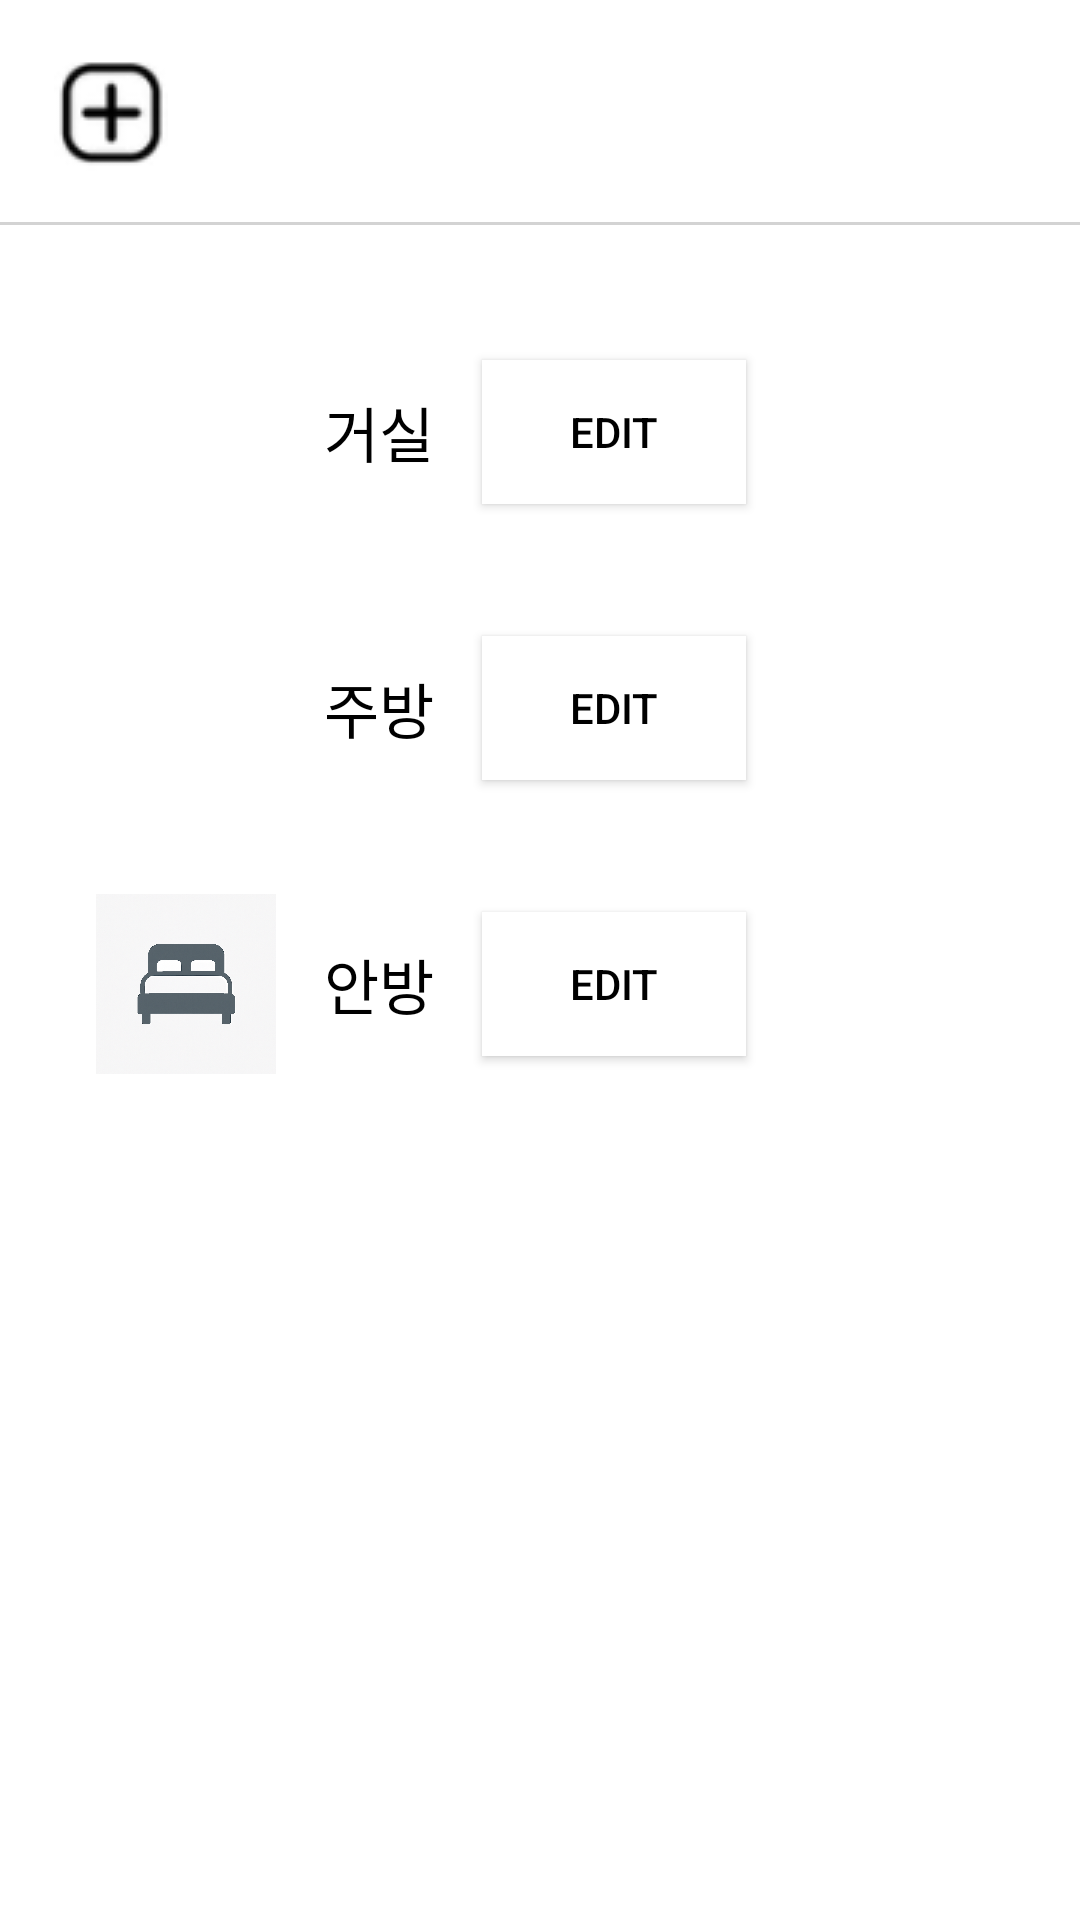

Screen size 1080 x 1920. Icon name, then its center in pixels as [x,y]:
add: [111,112]
bed room: [186,984]
